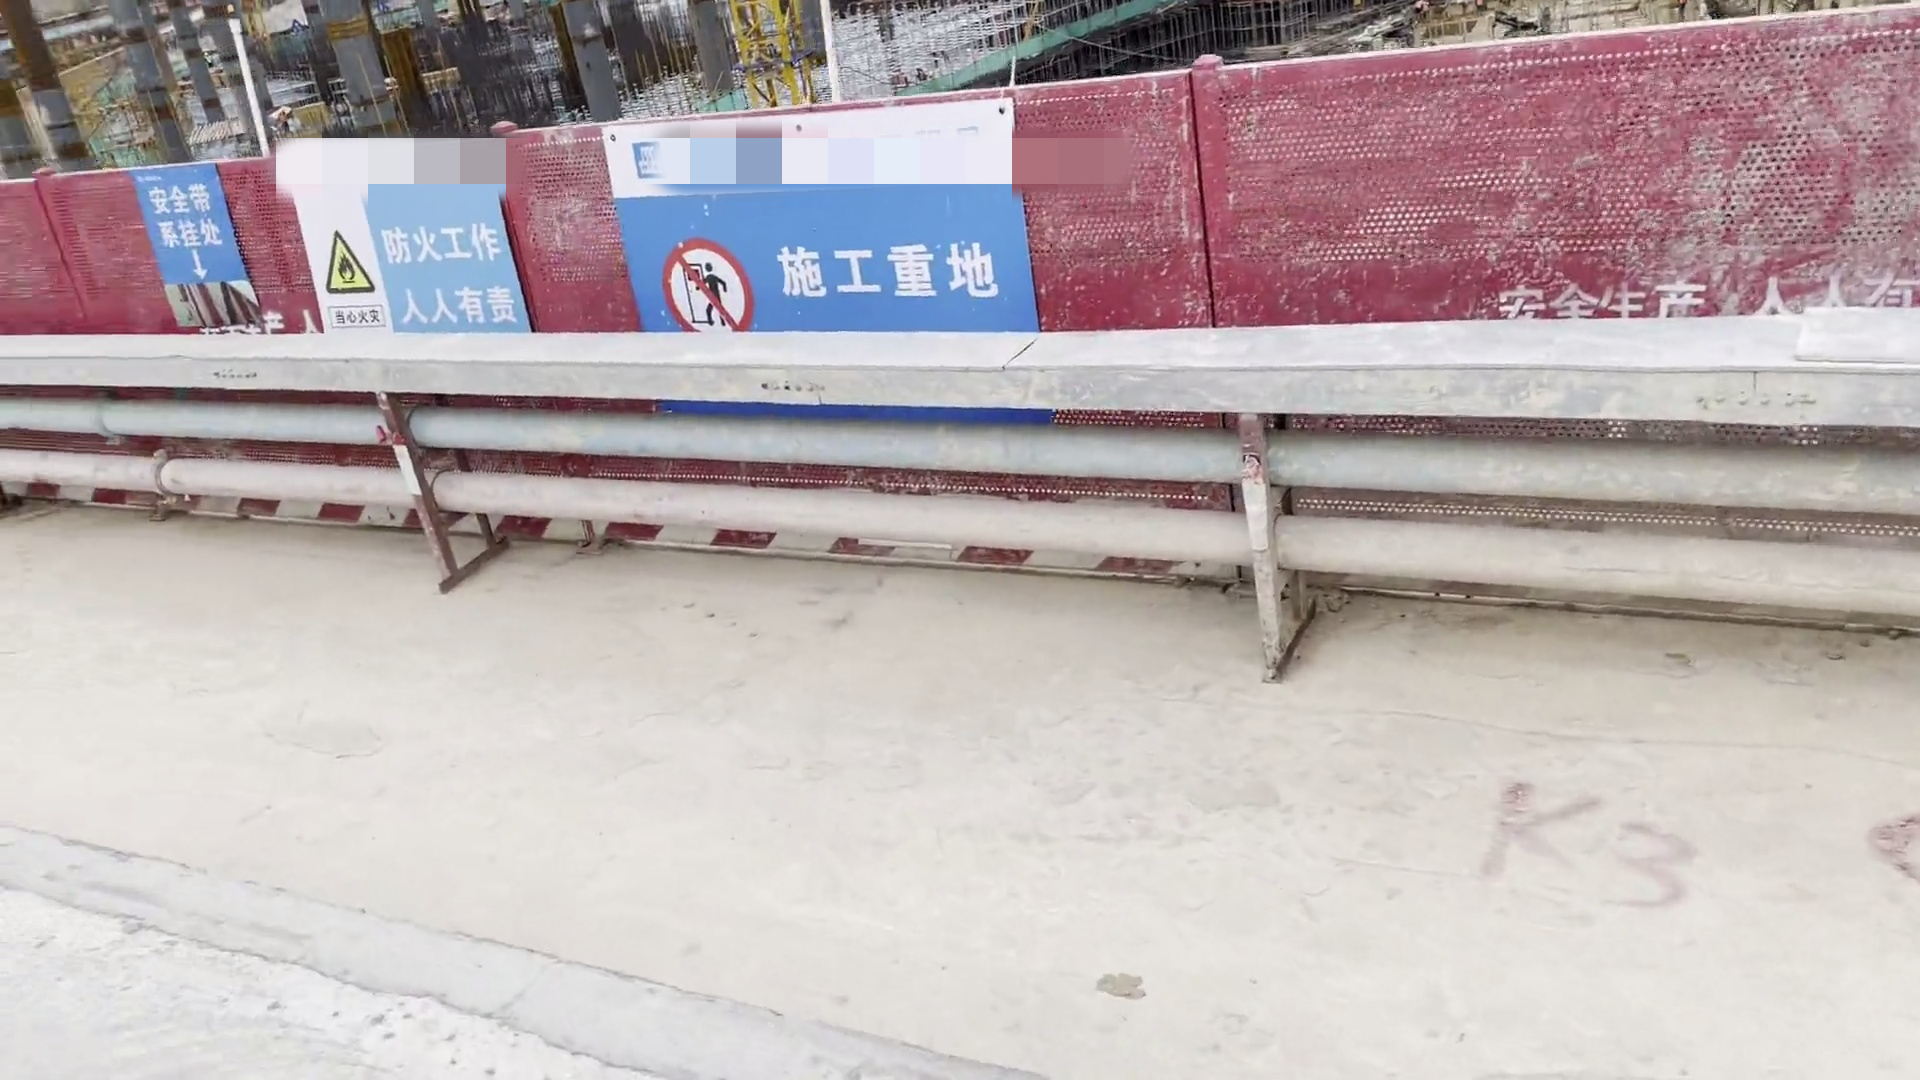fence: (1187, 4, 1920, 364), (485, 70, 1200, 375), (3, 131, 488, 373)
slogan: (568, 102, 1084, 442), (249, 124, 553, 372), (107, 156, 280, 359)
